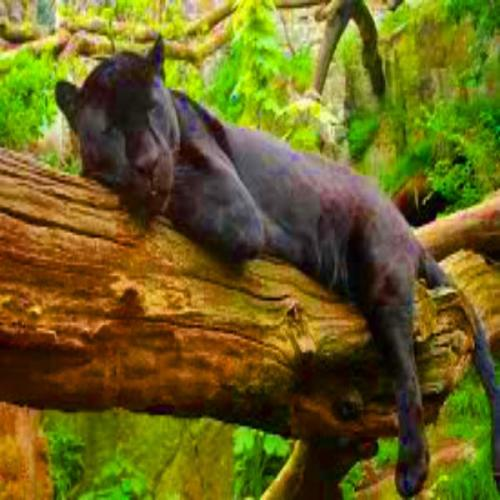panther-endangered: (55, 34, 500, 497)
